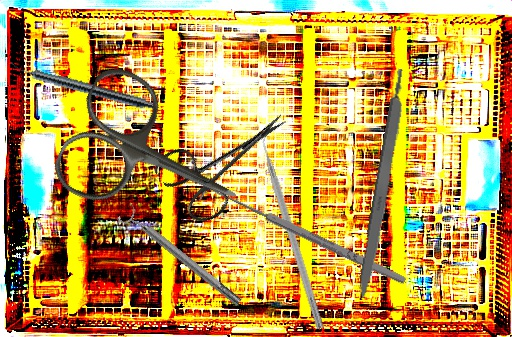Chopper: (255, 125, 335, 330)
Fixation Ring: (115, 201, 247, 313)
Handpiece: (7, 59, 159, 113)
Hook Surgical: (197, 180, 409, 294)
Iris Scissors: (46, 59, 265, 258), (150, 84, 307, 231)
Scalpel Handle: (355, 67, 412, 303)
